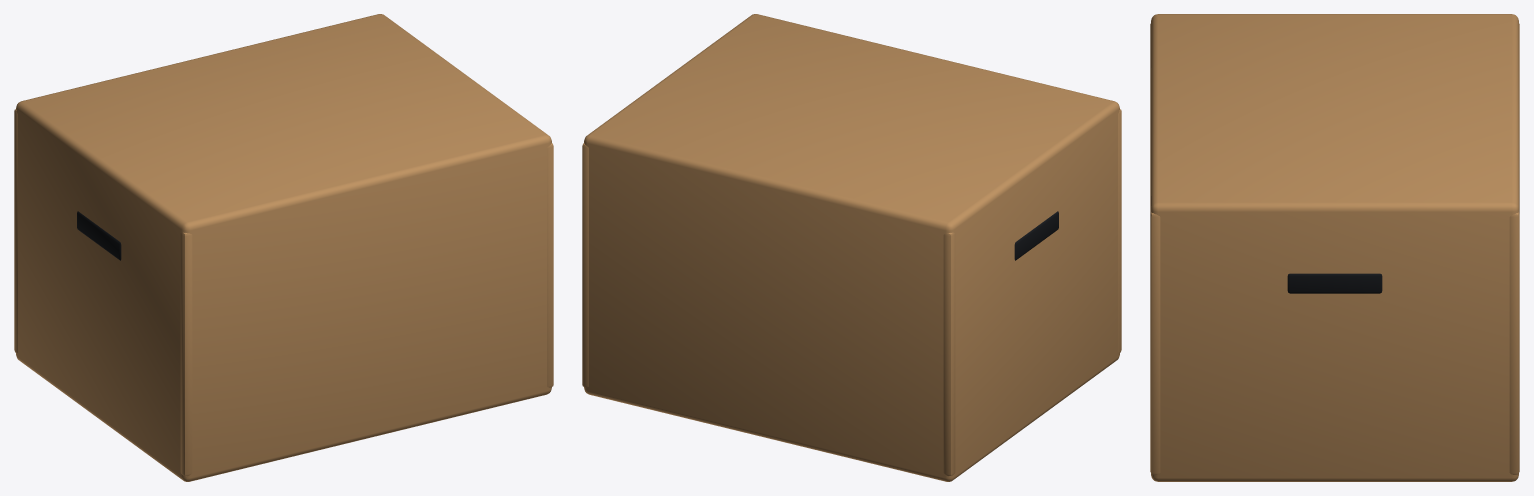
Rendered from plyo-box.glb.
3 renders of one model, left to right at view 1: azimuth 30°, elevation 25°; view 2: azimuth 150°, elevation 25°; view 3: azimuth 270°, elevation 25°, orthographic. The views are drawn at different scales.
Visible parts, largest first — view 1: frame.wood, frame.rubber; view 2: frame.wood, frame.rubber; view 3: frame.wood, frame.rubber.
Part boxes in pixels (x1=…): frame.wood: x1=14, y1=14, x2=553, y2=481; frame.rubber: x1=77, y1=211, x2=121, y2=260; frame.wood: x1=582, y1=14, x2=1121, y2=481; frame.rubber: x1=1014, y1=211, x2=1058, y2=260; frame.wood: x1=1150, y1=14, x2=1519, y2=481; frame.rubber: x1=1287, y1=273, x2=1382, y2=293.
Bounding box in the file's own units: 0.764 × 0.51 × 0.612.
